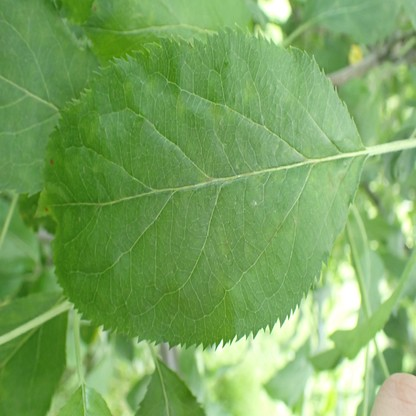scab: (266, 212, 294, 245), (326, 169, 344, 192), (220, 231, 230, 253), (175, 95, 183, 121), (307, 165, 317, 185), (244, 83, 254, 102), (196, 171, 210, 183), (251, 173, 263, 186), (210, 103, 218, 118), (271, 170, 283, 180)
